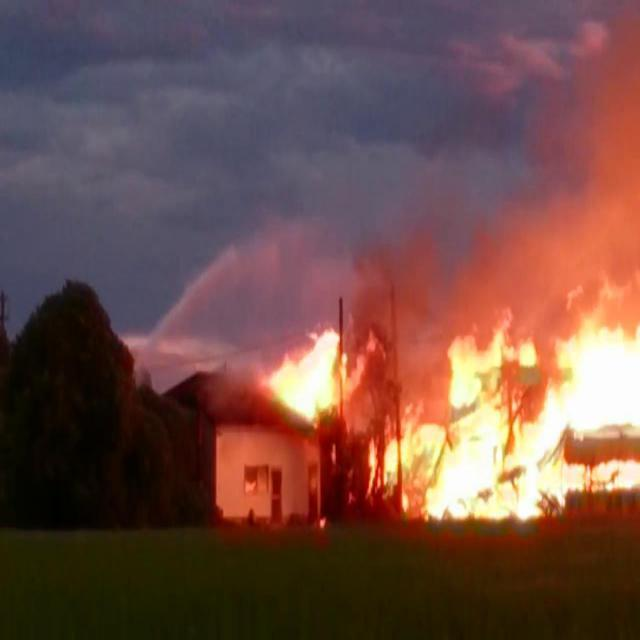Fire: (270, 290, 640, 517)
Smoke: (526, 33, 636, 270)
